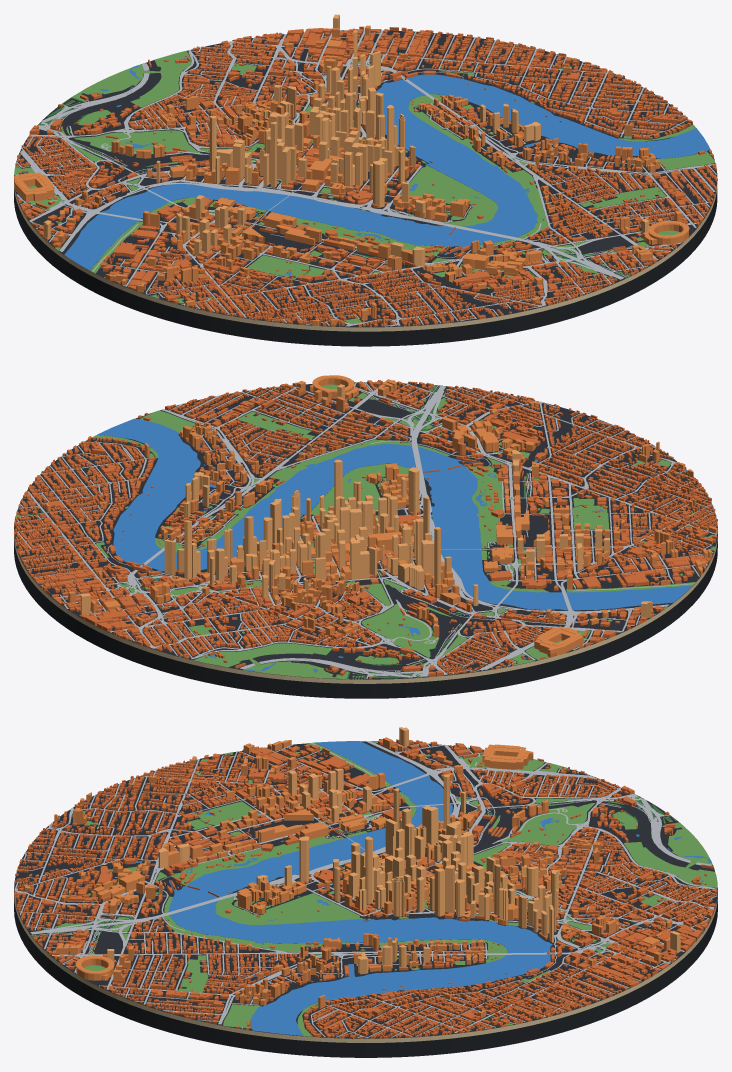
Rendered from warm.glb.
The picture shows the model from 3 angles, top to bottom: view 1: azimuth 30°, elevation 25°; view 2: azimuth 150°, elevation 25°; view 3: azimuth 270°, elevation 25°; orthographic projection.
Visible parts, largest first — view 1: land, water, roads, park, slab, buildings 15/30312/18987 low, buildings 15/30313/18987 low, buildings 15/30314/18985 low, buildings 15/30311/18987 low, buildings 15/30312/18986 tall, buildings 15/30311/18986 low, buildings 15/30313/18984 low (+26 smaller); view 2: land, roads, water, park, slab, buildings 15/30312/18987 low, buildings 15/30313/18987 low, buildings 15/30314/18985 low, buildings 15/30311/18986 low, buildings 15/30311/18987 low, buildings 15/30312/18985 tall, buildings 15/30312/18985 low (+27 smaller); view 3: land, water, roads, park, slab, buildings 15/30312/18987 low, buildings 15/30314/18985 low, buildings 15/30313/18987 low, buildings 15/30311/18987 low, buildings 15/30313/18984 low, buildings 15/30313/18985 tall, buildings 15/30311/18986 low (+25 smaller).
Boxes of the visible parts, box(x1,y1,x2,y2) form: land: box(14, 30, 717, 327); water: box(23, 58, 710, 275); roads: box(15, 30, 716, 326); park: box(14, 50, 715, 323); slab: box(14, 188, 717, 346); buildings 15/30312/18987 low: box(302, 226, 550, 326); buildings 15/30313/18987 low: box(478, 181, 680, 291); buildings 15/30314/18985 low: box(433, 34, 640, 108); buildings 15/30311/18987 low: box(157, 269, 377, 327); buildings 15/30312/18986 tall: box(238, 107, 425, 224); buildings 15/30311/18986 low: box(38, 197, 292, 294); buildings 15/30313/18984 low: box(217, 26, 428, 82); land: box(14, 382, 717, 679); roads: box(15, 382, 716, 678); water: box(24, 419, 692, 672); park: box(15, 382, 715, 679); slab: box(14, 534, 717, 698); buildings 15/30312/18987 low: box(423, 405, 661, 507); buildings 15/30313/18987 low: box(246, 380, 504, 451); buildings 15/30314/18985 low: box(14, 475, 132, 573); buildings 15/30311/18986 low: box(490, 514, 712, 623); buildings 15/30311/18987 low: box(592, 451, 717, 548); buildings 15/30312/18985 tall: box(262, 527, 451, 599); buildings 15/30312/18985 low: box(223, 547, 452, 653); land: box(14, 741, 717, 1038); water: box(79, 741, 711, 1035); roads: box(14, 741, 716, 1037); park: box(32, 741, 717, 1036); slab: box(14, 897, 717, 1057); buildings 15/30312/18987 low: box(38, 817, 228, 901); buildings 15/30314/18985 low: box(418, 980, 608, 1037); buildings 15/30313/18987 low: box(38, 898, 228, 982); buildings 15/30311/18987 low: box(57, 753, 228, 820); buildings 15/30313/18984 low: box(609, 899, 715, 981); buildings 15/30313/18985 tall: box(419, 862, 558, 962); buildings 15/30311/18986 low: box(228, 739, 418, 820).
Bounding box in the file's own units: 0.6007 × 0.0787 × 0.6.
